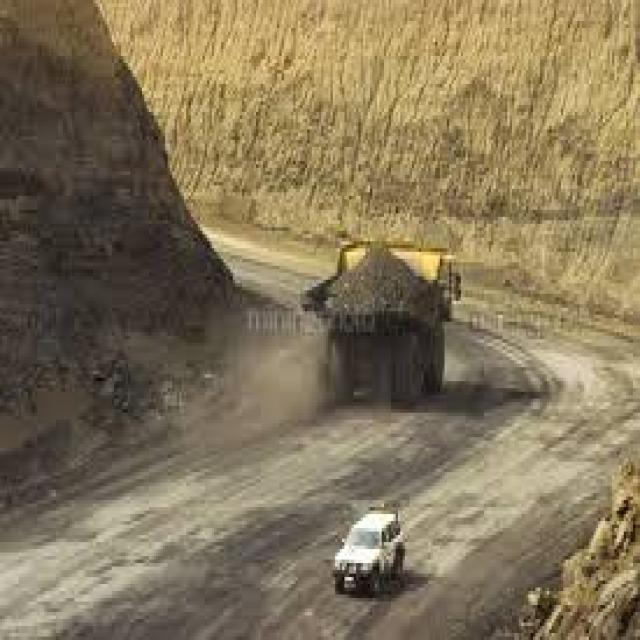dump_truck: (300, 206, 463, 424)
light_vehicle: (298, 479, 447, 602)
